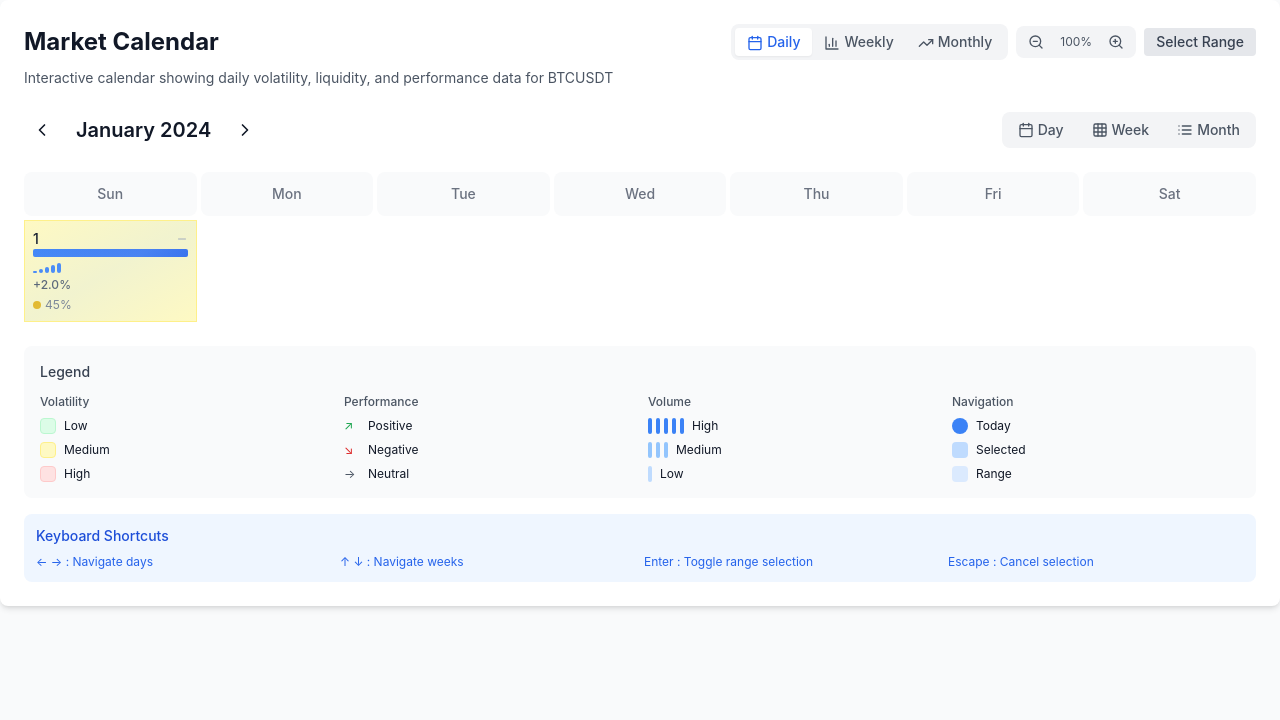
Calendar Interactions › range selection toggle
The width and height of the screenshot is (1280, 720).
Click the button "Select Range": x=1200, y=42 [1144,28,1256,56]
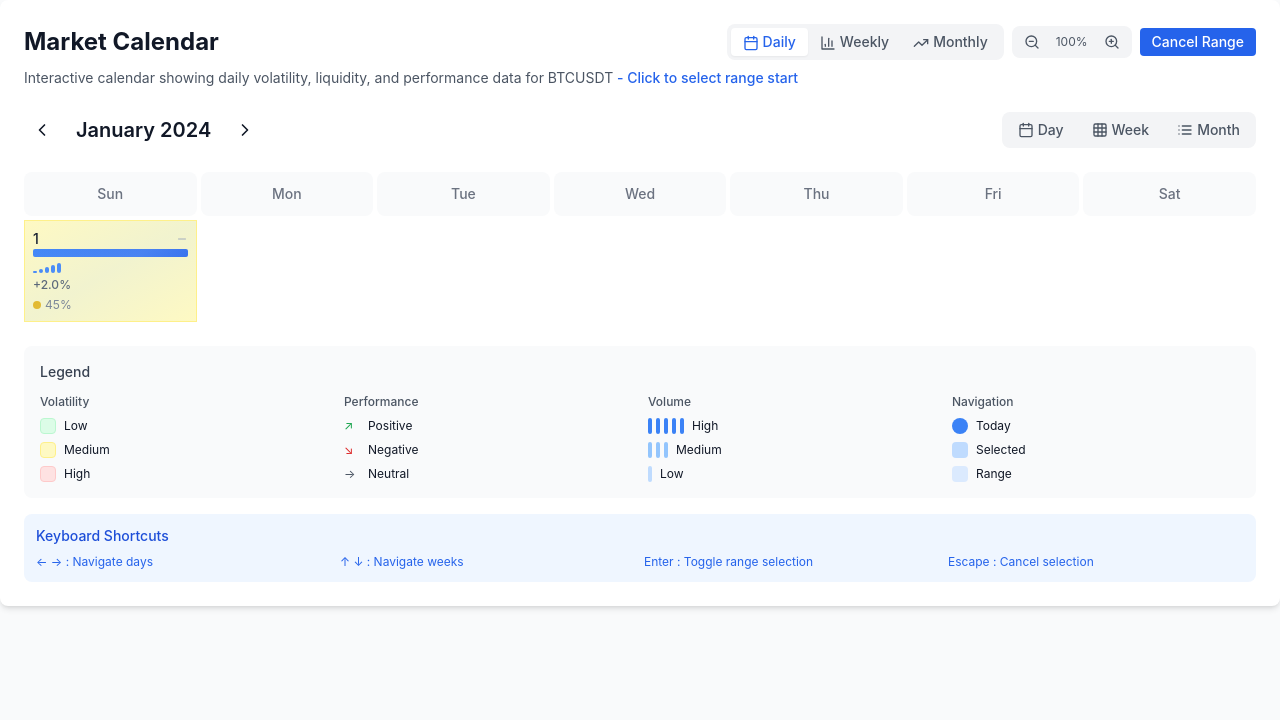
Now the button "Cancel Range" is shown, box [1140,28,1256,56]
